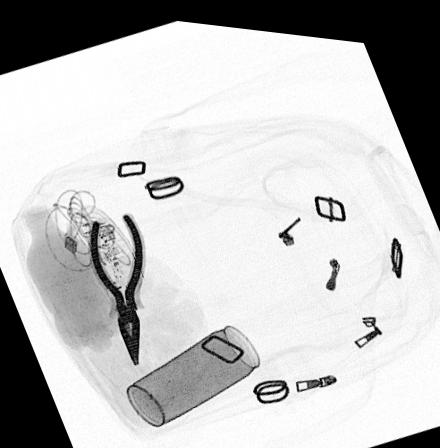Pliers: (84, 208, 147, 365)
